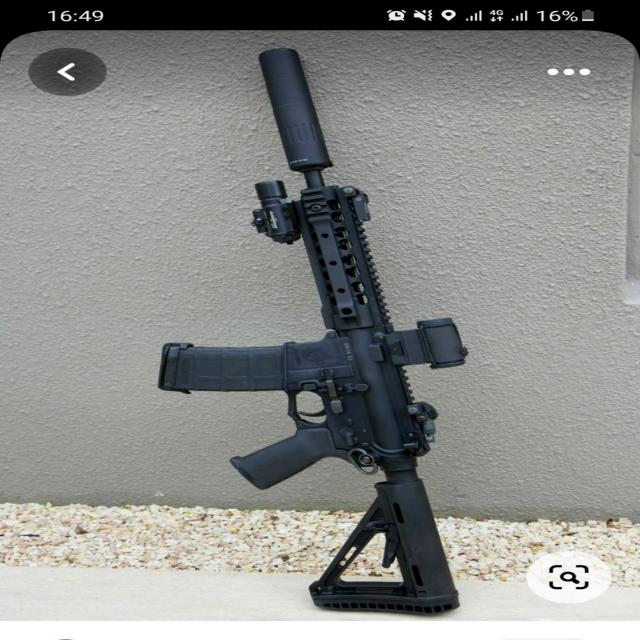m16: (172, 37, 491, 640)
